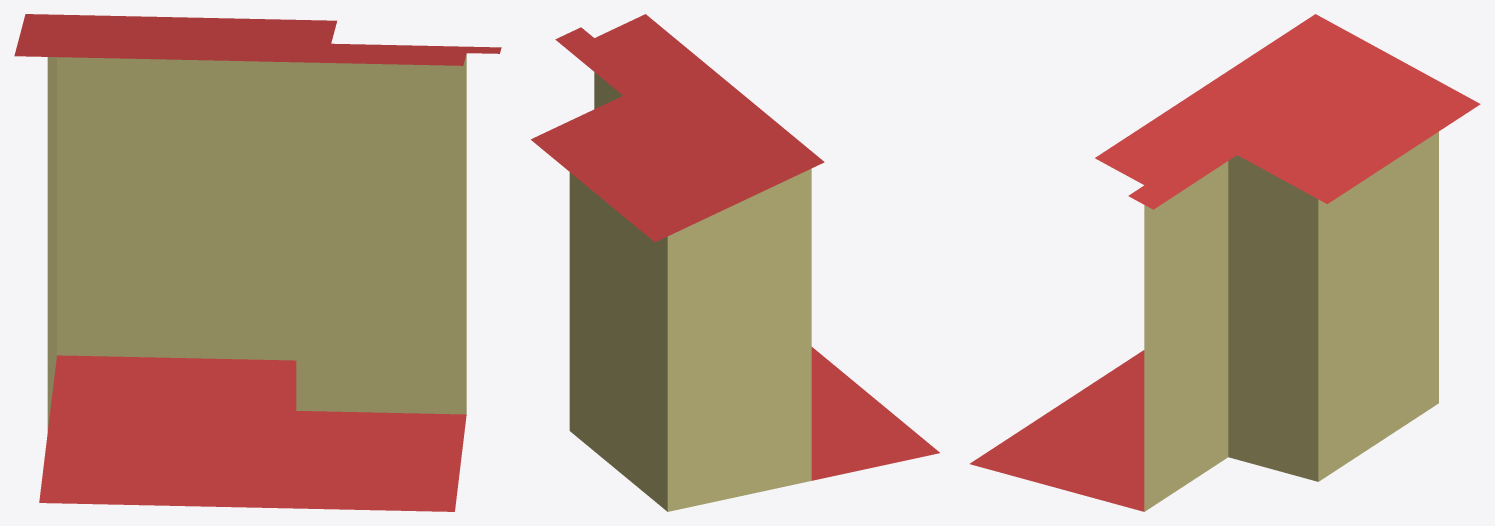
The picture shows the model from 3 angles, left to right: view 1: azimuth 30°, elevation 25°; view 2: azimuth 150°, elevation 25°; view 3: azimuth 270°, elevation 25°; orthographic projection. The views are drawn at different scales.
Bounding box in the file's own units: 11.73 × 12.74 × 9.35.
